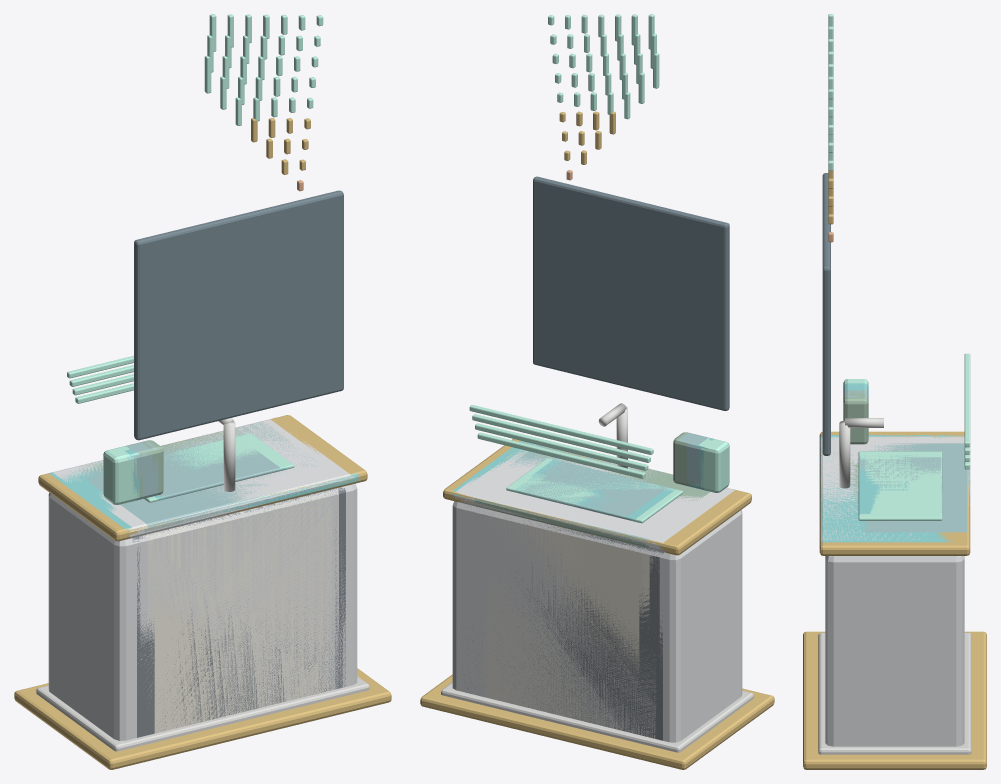
File: Gear12.fbx
The picture shows the model from 3 angles, left to right: view 1: azimuth 30°, elevation 25°; view 2: azimuth 150°, elevation 25°; view 3: azimuth 270°, elevation 25°; orthographic projection. The views are drawn at different scales.
Visible parts, largest first — view 1: Gear12_V10_Glass, Gear12_V10_Platinum, Gear12_V6_Platinum, Gear12_V4_Linen, Gear12_V4_Glass, Gear12_V5_Platinum, Gear12_V3_Linen, Gear12_V2_Ivory, Gear12_V10_Gold, Gear12_V7_Graphite, Gear12_V1_Glass, Gear12_V3_Glass (+27 smaller); view 2: Gear12_V10_Platinum, Gear12_V10_Glass, Gear12_V1_Ivory, Gear12_V5_Glass, Gear12_V7_Graphite, Gear12_V10_Gold, Gear12_V6_Platinum, Gear12_V1_Glass, Gear12_V6_Glass, Gear12_V10_Glow, Gear12_V8_Graphite, Gear12_V4_Linen (+27 smaller); view 3: Gear12_V10_Platinum, Gear12_V10_Gold, Gear12_V2_Blue, Gear12_V9_Gold, Gear12_V10_Glow, Gear12_V8_Aqua, Gear12_V9_Glow, Gear12_V10_Glass, Gear12_V5_Platinum, Gear12_V10_Chrome, Gear12_V7_Platinum, Gear12_V1_Chrome (+8 smaller).
Part boxes in pixels (x1=…): Gear12_V10_Glass: x1=134, y1=190, x2=343, y2=440; Gear12_V10_Platinum: x1=48, y1=483, x2=357, y2=740; Gear12_V6_Platinum: x1=106, y1=439, x2=351, y2=688; Gear12_V4_Linen: x1=146, y1=491, x2=331, y2=690; Gear12_V4_Glass: x1=158, y1=217, x2=324, y2=414; Gear12_V5_Platinum: x1=137, y1=419, x2=347, y2=719; Gear12_V3_Linen: x1=151, y1=494, x2=328, y2=719; Gear12_V2_Ivory: x1=154, y1=504, x2=324, y2=733; Gear12_V10_Gold: x1=14, y1=415, x2=391, y2=769; Gear12_V7_Graphite: x1=136, y1=487, x2=342, y2=737; Gear12_V1_Glass: x1=167, y1=228, x2=314, y2=398; Gear12_V3_Glass: x1=161, y1=222, x2=320, y2=410; Gear12_V10_Platinum: x1=452, y1=501, x2=742, y2=742; Gear12_V10_Glass: x1=533, y1=176, x2=729, y2=410; Gear12_V1_Ivory: x1=486, y1=511, x2=639, y2=728; Gear12_V5_Glass: x1=548, y1=210, x2=709, y2=392; Gear12_V7_Graphite: x1=467, y1=506, x2=659, y2=739; Gear12_V10_Gold: x1=420, y1=439, x2=774, y2=769; Gear12_V6_Platinum: x1=458, y1=450, x2=734, y2=738; Gear12_V1_Glass: x1=560, y1=212, x2=653, y2=362; Gear12_V6_Glass: x1=545, y1=220, x2=712, y2=395; Gear12_V10_Glow: x1=469, y1=14, x2=729, y2=523; Gear12_V8_Graphite: x1=463, y1=521, x2=663, y2=740; Gear12_V4_Linen: x1=477, y1=511, x2=649, y2=630; Gear12_V10_Platinum: x1=825, y1=556, x2=964, y2=746; Gear12_V10_Gold: x1=803, y1=431, x2=986, y2=769; Gear12_V2_Blue: x1=819, y1=391, x2=968, y2=532; Gear12_V9_Gold: x1=803, y1=433, x2=986, y2=760; Gear12_V10_Glow: x1=828, y1=14, x2=970, y2=520; Gear12_V8_Aqua: x1=819, y1=435, x2=970, y2=542; Gear12_V9_Glow: x1=828, y1=98, x2=970, y2=517; Gear12_V10_Glass: x1=822, y1=173, x2=830, y2=455; Gear12_V5_Platinum: x1=822, y1=440, x2=969, y2=506; Gear12_V10_Chrome: x1=818, y1=632, x2=971, y2=754; Gear12_V7_Platinum: x1=820, y1=436, x2=970, y2=540; Gear12_V1_Chrome: x1=839, y1=418, x2=883, y2=488.
Bounding box in the file's own units: 111 × 269 × 66.
